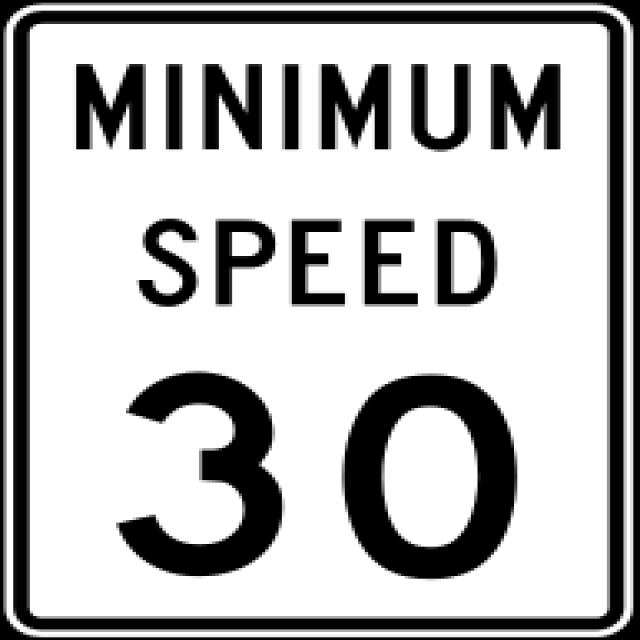Speed Limit -30-: (51, 355, 584, 605)
